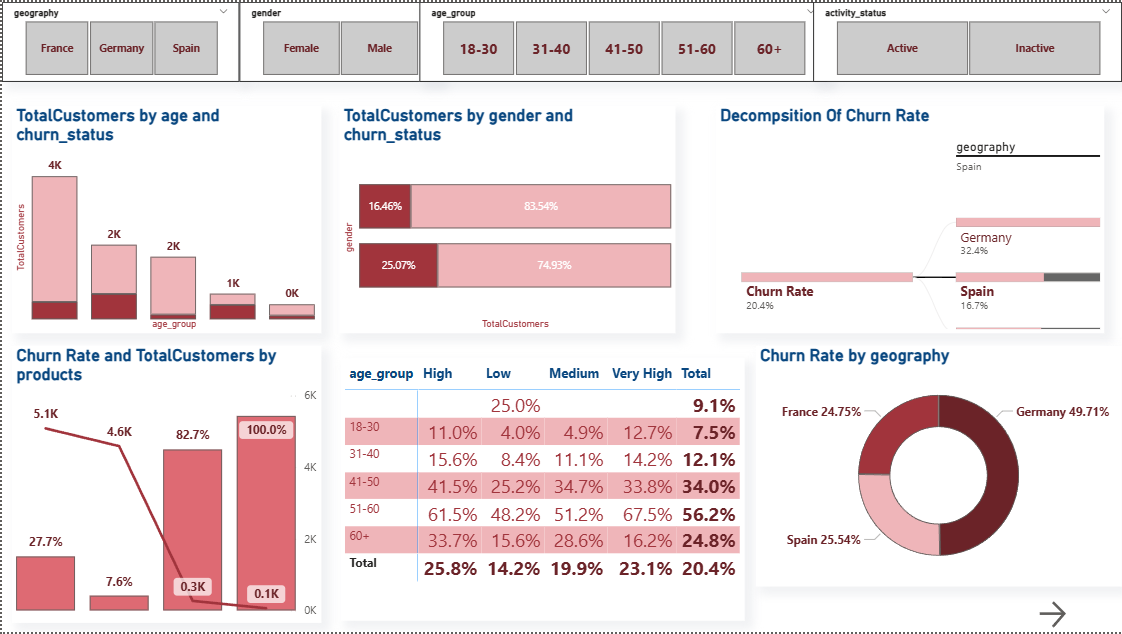

The dashboard page shown, as its layout file describes it:
{"tool":"powerbi","page":{"name":"Customer Segmentation Analytics","canvas":[1280,720],"ordinal":1},"visuals":[{"type":"slicer","fields":{"Values":["fact_customer_churn.geography"]},"box":[0,0,271.4,91.4],"z":0},{"type":"slicer","fields":{"Values":["fact_customer_churn.gender"]},"box":[271.4,0,228.6,91.4],"z":1000},{"type":"slicer","fields":{"Values":["fact_customer_churn.age_group"]},"box":[477.1,0,465.7,91.4],"z":2000},{"type":"slicer","fields":{"Values":["fact_customer_churn.activity_status"]},"box":[927.1,0,352.9,91.4],"z":3000},{"type":"columnChart","title":"TotalCustomers by age and churn_status","fields":{"Category":["fact_customer_churn.age_group"],"Series":["fact_customer_churn.churn_status"],"Y":["fact_customer_churn.TotalCustomers"]},"box":[11.7,118.3,353.3,260],"z":4000},{"type":"hundredPercentStackedBarChart","fields":{"Category":["fact_customer_churn.gender"],"Y":["fact_customer_churn.TotalCustomers"],"Series":["fact_customer_churn.churn_status"]},"box":[385.7,118.6,384.3,260],"z":5000},{"type":"lineStackedColumnComboChart","title":"Churn Rate and TotalCustomers by products","fields":{"Category":["fact_customer_churn.num_of_products"],"Y2":["fact_customer_churn.TotalCustomers"],"Y":["fact_customer_churn.Churn Rate"]},"box":[11.7,393.3,353.3,316.7],"z":6000},{"type":"pivotTable","fields":{"Rows":["fact_customer_churn.age_group"],"Columns":["fact_customer_churn.balance_group"],"Values":["fact_customer_churn.Churn Rate"]},"box":[386.7,406.7,461.7,300],"z":7000},{"type":"decompositionTreeVisual","title":"Decompsition Of Churn Rate","fields":{"Analyze":["fact_customer_churn.Churn Rate"],"ExplainBy":["fact_customer_churn.geography","fact_customer_churn.num_of_products","fact_customer_churn.age_group","fact_customer_churn.activity_status","fact_customer_churn.balance_group"]},"box":[815.7,118.6,444.3,260],"z":8000},{"type":"donutChart","fields":{"Category":["fact_customer_churn.geography"],"Y":["fact_customer_churn.Churn Rate"]},"box":[861.7,393.3,418.3,275],"z":9000},{"type":"actionButton","box":[1180,680,100,40],"z":10000}]}

Visuals, with their boxes in screenshot pixels (x1, y1, x2, y2), scaled from the page's 1280x720 canvas onto the 1122x634 screenshot:
slicer - fact_customer_churn.geography: bbox=[0, 0, 238, 80]
slicer - fact_customer_churn.gender: bbox=[238, 0, 438, 80]
slicer - fact_customer_churn.age_group: bbox=[418, 0, 826, 80]
slicer - fact_customer_churn.activity_status: bbox=[813, 0, 1121, 80]
"TotalCustomers by age and churn_status" columnChart: bbox=[10, 104, 320, 333]
hundredPercentStackedBarChart - fact_customer_churn.gender x fact_customer_churn.TotalCustomers: bbox=[338, 104, 675, 333]
"Churn Rate and TotalCustomers by products" lineStackedColumnComboChart: bbox=[10, 346, 320, 625]
pivotTable - fact_customer_churn.age_group x fact_customer_churn.balance_group: bbox=[339, 358, 744, 622]
"Decompsition Of Churn Rate" decompositionTreeVisual: bbox=[715, 104, 1104, 333]
donutChart - fact_customer_churn.geography x fact_customer_churn.Churn Rate: bbox=[755, 346, 1121, 588]
actionButton: bbox=[1034, 599, 1121, 633]
